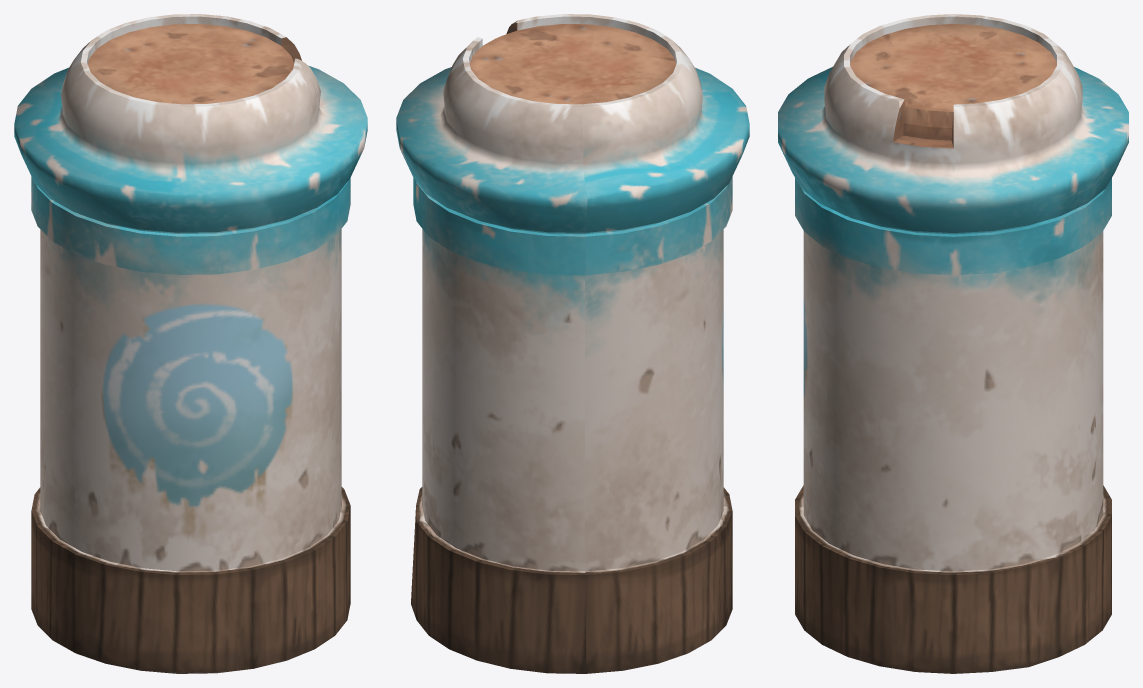
The model's file is Z1_Broken_Tower_low.fbx.
3 views of the same model, side by side, from view 1: azimuth 30°, elevation 25°; view 2: azimuth 150°, elevation 25°; view 3: azimuth 270°, elevation 25° (orthographic).
Parts seen in each view (by area): view 1: Z1_Broken_Tower_low; view 2: Z1_Broken_Tower_low; view 3: Z1_Broken_Tower_low.
Part boxes in pixels (left/top/right/bottom): Z1_Broken_Tower_low: left=14, top=14, right=367, bottom=673; Z1_Broken_Tower_low: left=396, top=14, right=749, bottom=673; Z1_Broken_Tower_low: left=778, top=14, right=1128, bottom=673.
Size of the model in its own units: 890 by 1517 by 883.
